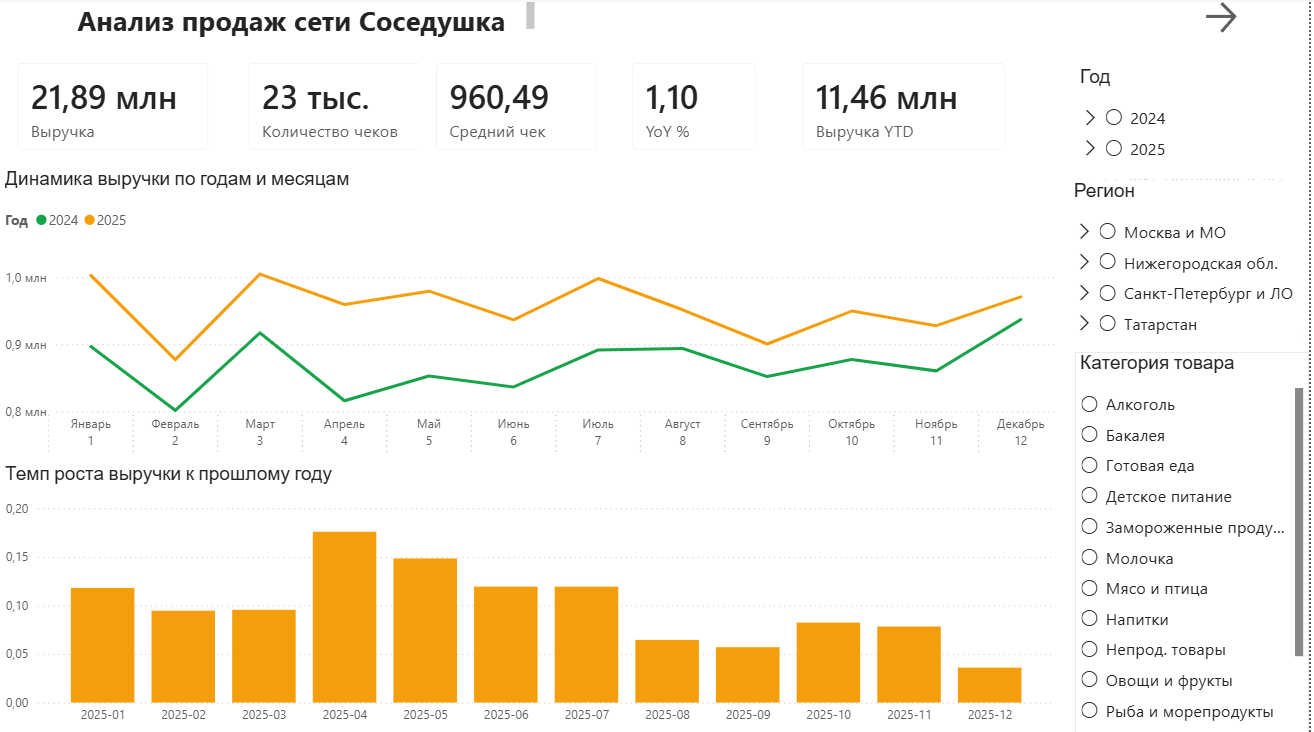

What the dashboard file says about the page in this screenshot:
{"tool":"powerbi","page":{"name":"Страница 1","canvas":[1280,720],"ordinal":0},"visuals":[{"type":"cardVisual","title":"Выручка","fields":{"Data":["fact_sales.Revenue"]},"box":[0,47.7,221.3,119.8],"z":0},{"type":"cardVisual","fields":{"Data":["fact_sales.quant_checks"]},"box":[226.2,47.7,207.9,119.8],"z":1000},{"type":"cardVisual","fields":{"Data":["fact_sales.avg_check"]},"box":[409.6,47.7,192,119.8],"z":2000},{"type":"lineChart","title":"Динамика выручки по годам и месяцам","fields":{"Category":["dim_calendar.Номер месяца","dim_calendar.Месяц"],"Y":["fact_sales.Revenue"],"Series":["dim_calendar.Год"]},"box":[0,167.5,1037,288.6],"z":3000},{"type":"textbox","box":[70.9,0,457.3,47.7],"z":4000},{"type":"listSlicer","title":"Регион","fields":{"Values":["dim_stores.регион"]},"box":[1060.2,67.3,214,168.8],"z":5000},{"type":"listSlicer","fields":{"Values":["fact_sales.дата_время.Изменение.Иерархия дат.Год","dim_calendar.Год-Месяц"]},"box":[1051.6,67.3,228.7,111.3],"z":6000},{"type":"actionButton","box":[1173.9,0,100,40],"z":7000},{"type":"clusteredColumnChart","title":"Темп роста выручки к прошлому году","fields":{"Y":["fact_sales.YoY_perc"],"Category":["dim_calendar.Год-Месяц"]},"box":[0,456.1,1037,264.1],"z":8000},{"type":"listSlicer","title":"Категория товара","fields":{"Values":["dim_products.категория"]},"box":[1051.6,347.3,228.7,373],"z":9000},{"type":"listSlicer","title":"Регион","fields":{"Values":["dim_stores.регион","dim_stores.наименование_магазина"]},"box":[1045.5,178.5,228.7,168.8],"z":10000},{"type":"cardVisual","fields":{"Data":["fact_sales.YoY %"]},"box":[601.6,47.7,155.3,119.8],"z":11000},{"type":"cardVisual","fields":{"Data":["fact_sales.Выручка YTD"]},"box":[767.9,47.7,233.6,119.8],"z":12000}]}

Visuals, with their boxes in screenshot pixels (x1, y1, x2, y2), scaled from the page's 1280x720 canvas onto the 1314x732 screenshot:
"Выручка" cardVisual: [x1=0, y1=48, x2=227, y2=170]
cardVisual - fact_sales.quant_checks: [x1=232, y1=48, x2=446, y2=170]
cardVisual - fact_sales.avg_check: [x1=420, y1=48, x2=618, y2=170]
"Динамика выручки по годам и месяцам" lineChart: [x1=0, y1=170, x2=1065, y2=464]
textbox: [x1=73, y1=0, x2=542, y2=48]
"Регион" listSlicer: [x1=1088, y1=68, x2=1308, y2=240]
listSlicer - fact_sales.дата_время.Изменение.Иерархия дат.Год x dim_calendar.Год-Месяц: [x1=1080, y1=68, x2=1313, y2=182]
actionButton: [x1=1205, y1=0, x2=1308, y2=41]
"Темп роста выручки к прошлому году" clusteredColumnChart: [x1=0, y1=464, x2=1065, y2=731]
"Категория товара" listSlicer: [x1=1080, y1=353, x2=1313, y2=731]
"Регион" listSlicer: [x1=1073, y1=181, x2=1308, y2=353]
cardVisual - fact_sales.YoY %: [x1=618, y1=48, x2=777, y2=170]
cardVisual - fact_sales.Выручка YTD: [x1=788, y1=48, x2=1028, y2=170]
